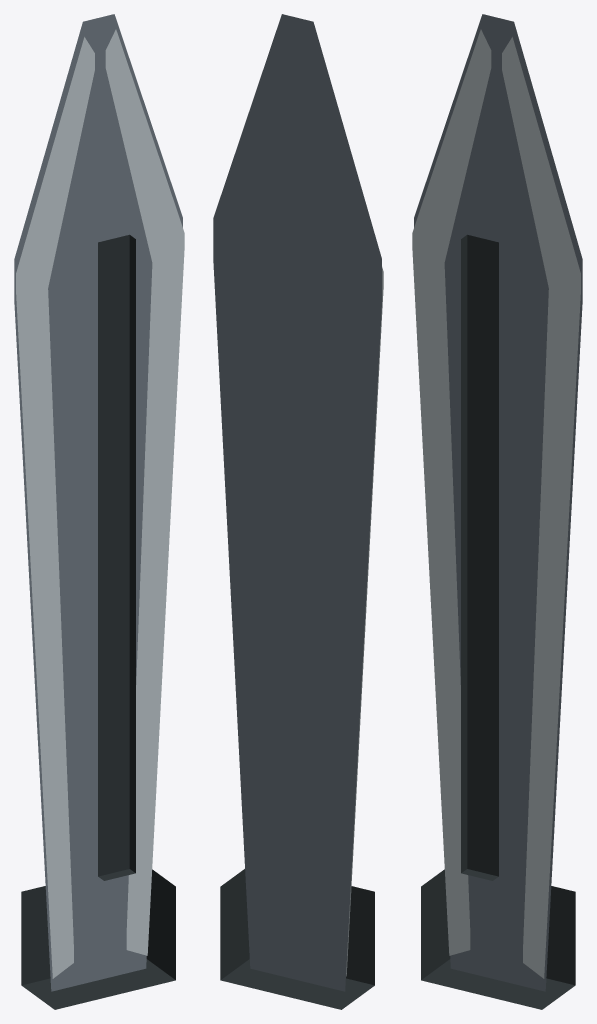
Rendered from MagicForestSword.obj.
The picture shows the model from 3 angles, left to right: view 1: azimuth 30°, elevation 25°; view 2: azimuth 150°, elevation 25°; view 3: azimuth 330°, elevation 25°; orthographic projection.
Parts seen in each view (by area): view 1: BladeCore, LeftEdge, RightEdge, Fuller, Ricasso; view 2: BladeCore, Ricasso, LeftEdge; view 3: BladeCore, RightEdge, LeftEdge, Fuller, Ricasso.
Boxes of the visible parts, x1,y1,x2,y2 form: BladeCore: (14,14,182,991); LeftEdge: (16,37,94,978); RightEdge: (105,29,184,955); Fuller: (98,234,135,880); Ricasso: (21,869,175,1009); BladeCore: (213,14,381,991); Ricasso: (220,869,374,1009); LeftEdge: (346,267,383,976); BladeCore: (414,14,582,991); RightEdge: (502,37,580,978); LeftEdge: (412,29,491,955); Fuller: (461,234,498,880); Ricasso: (421,869,575,1009).
Bounding box in the file's own units: 0.6464 × 3.53 × 0.2525.
